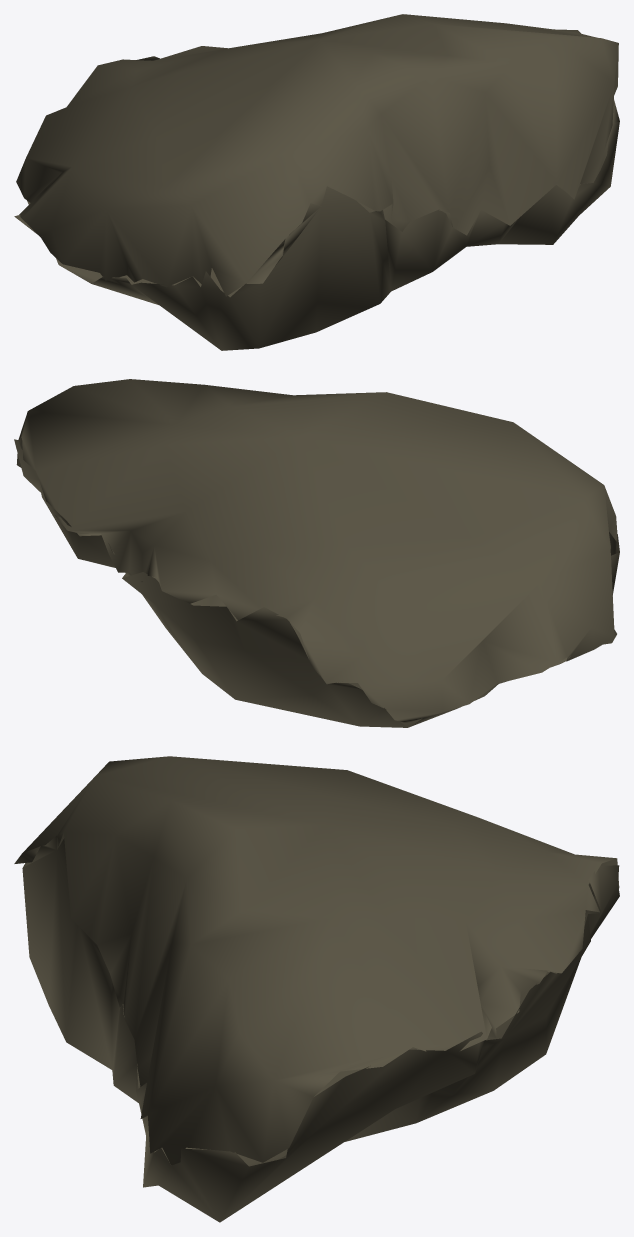
The model's file is rock-mossy-flat-lod1.glb.
3 renders of one model, top to bottom at view 1: azimuth 30°, elevation 25°; view 2: azimuth 150°, elevation 25°; view 3: azimuth 270°, elevation 25°, orthographic. The views are drawn at different scales.
Parts seen in each view (by area): view 1: rock-mossy-flat.001; view 2: rock-mossy-flat.001; view 3: rock-mossy-flat.001.
Part boxes in pixels (x1,y1,x2,y2): rock-mossy-flat.001: (14, 14, 619, 350); rock-mossy-flat.001: (14, 379, 619, 727); rock-mossy-flat.001: (14, 756, 619, 1222).
Bounding box in the file's own units: 2.23 × 0.7585 × 1.57.
